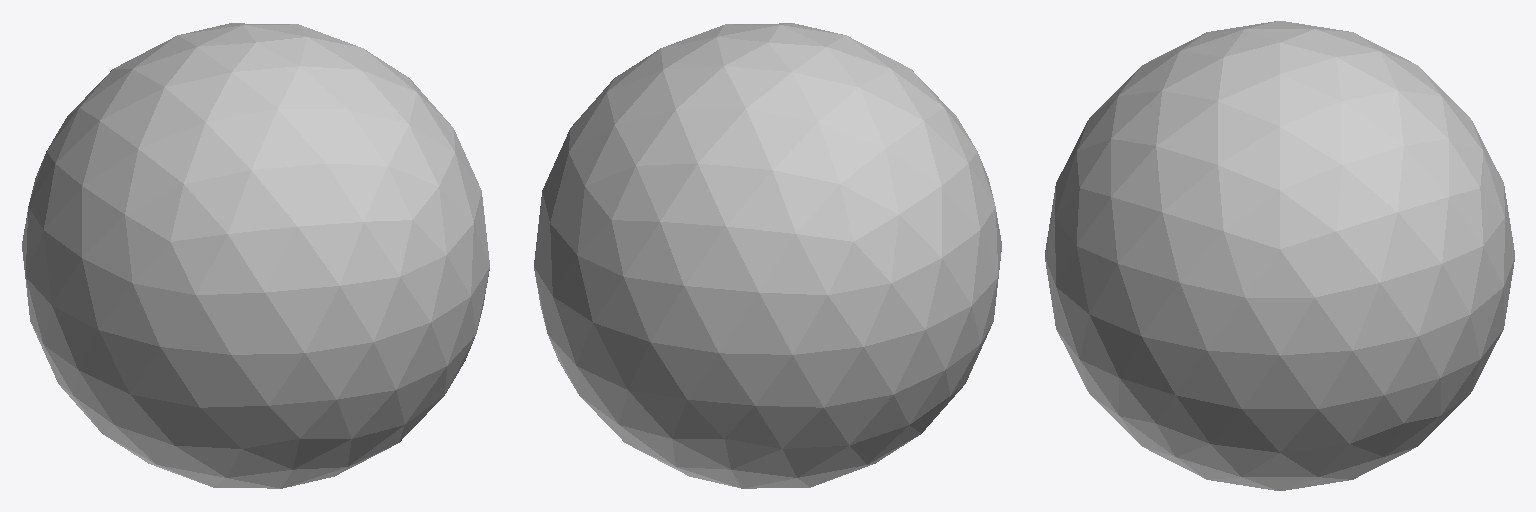
File: player.obj
3 views of the same model, side by side, from view 1: azimuth 30°, elevation 25°; view 2: azimuth 150°, elevation 25°; view 3: azimuth 270°, elevation 25° (orthographic).
Visible parts, largest first — view 1: Icosphere; view 2: Icosphere; view 3: Icosphere.
Boxes of the visible parts, box(x1,y1,x2,y2) form: Icosphere: box(22, 23, 489, 488); Icosphere: box(534, 23, 1001, 488); Icosphere: box(1045, 21, 1514, 490).
Bounding box in the file's own units: 0.5 × 0.5 × 0.5.